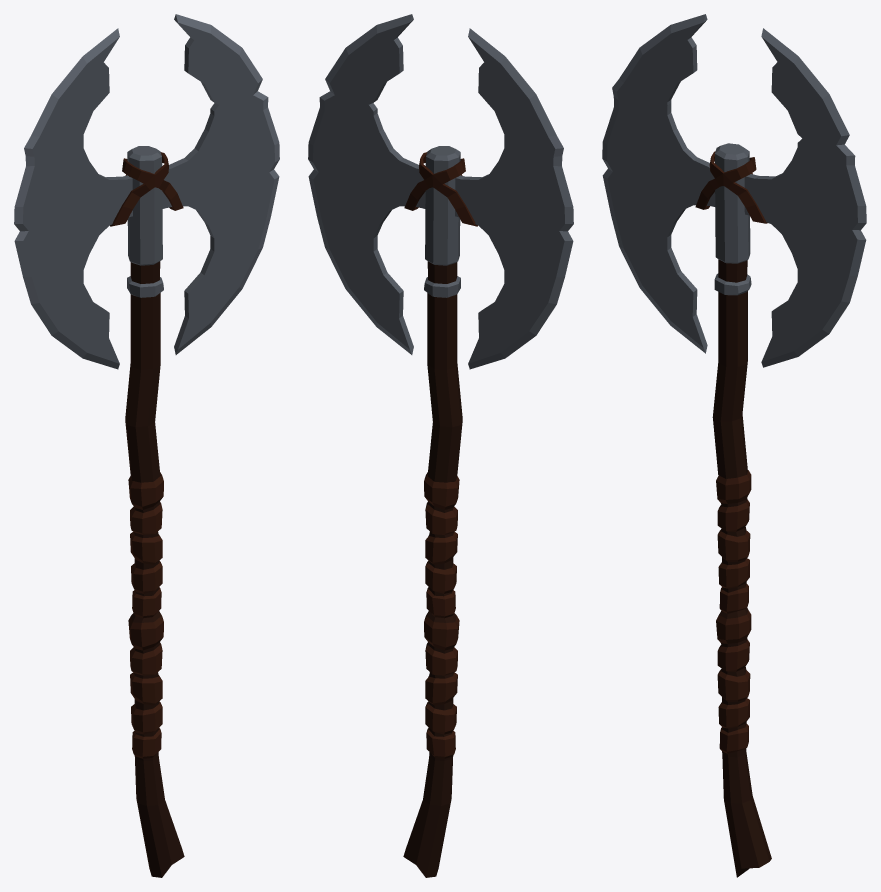
The model's file is Axe_Double.glb.
3 views of the same model, side by side, from view 1: azimuth 30°, elevation 25°; view 2: azimuth 150°, elevation 25°; view 3: azimuth 330°, elevation 25° (orthographic).
Visible parts, largest first — view 1: Axe_Double; view 2: Axe_Double; view 3: Axe_Double.
Boxes of the visible parts, left/top/right/bottom form: Axe_Double: left=14, top=14, right=279, bottom=877; Axe_Double: left=308, top=14, right=573, bottom=877; Axe_Double: left=602, top=14, right=866, bottom=877.
Bounding box in the file's own units: 206 × 635 × 26.09.
